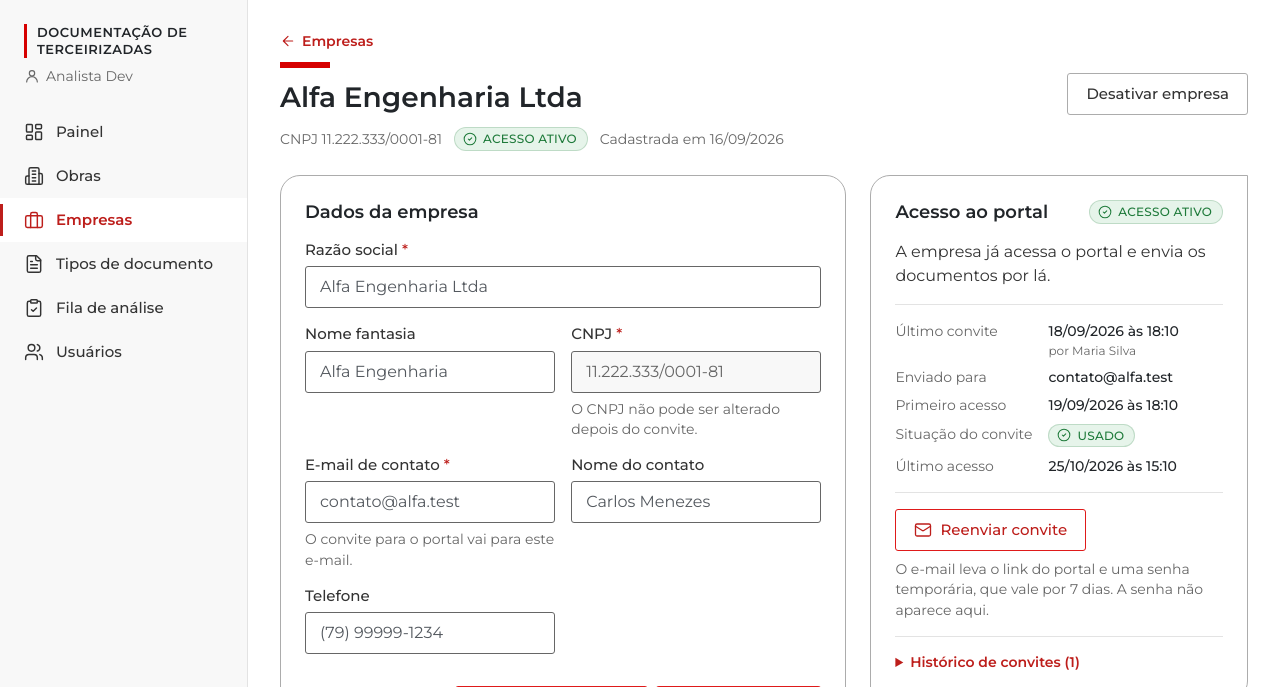
Test: Detalhe da empresa — dados e ativação › cancelar a desativação não altera a empresa
The image size is (1280, 687).
Expected: the heading "Alfa Engenharia Ltda" is shown, x1=280 y1=80 x2=583 y2=114
What coordinates should you click on to do the following:
click the button "Desativar empresa"
I would click on:
 (1158, 94)
Its box is x1=1067 y1=73 x2=1248 y2=115.
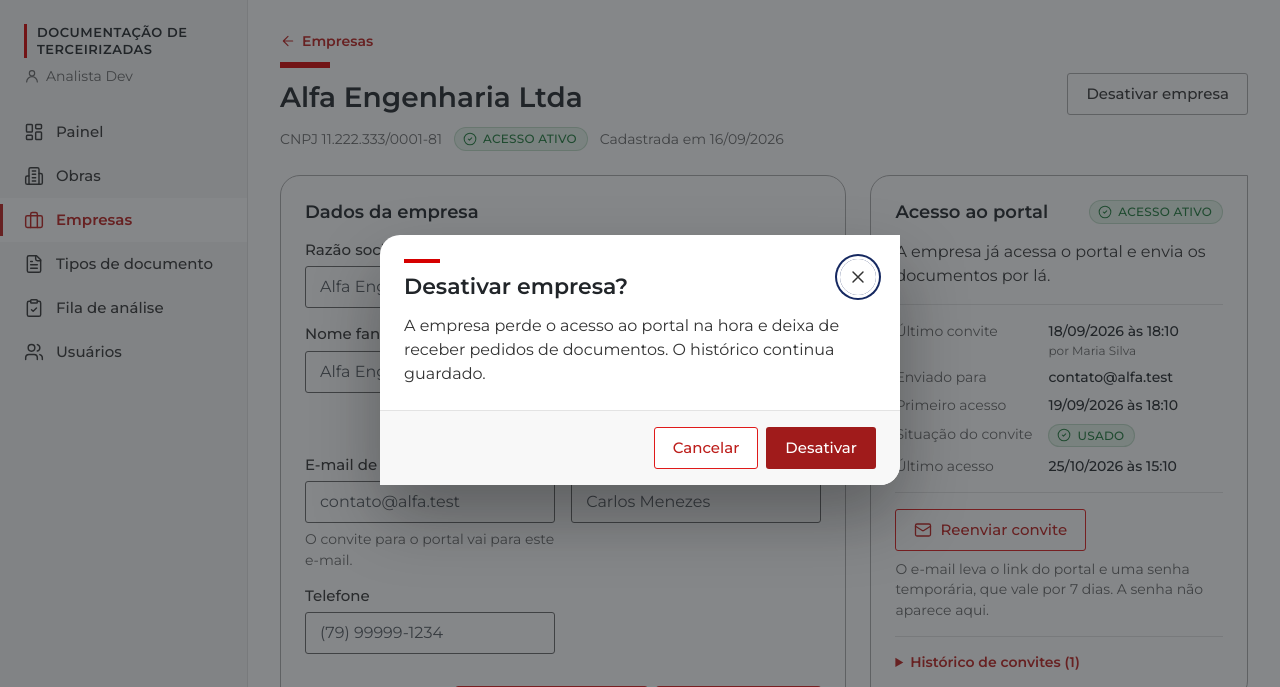
What coordinates should you click on to do the following:
click the button "Cancelar"
I would click on:
 (706, 448)
Its box is x1=654 y1=427 x2=758 y2=469.
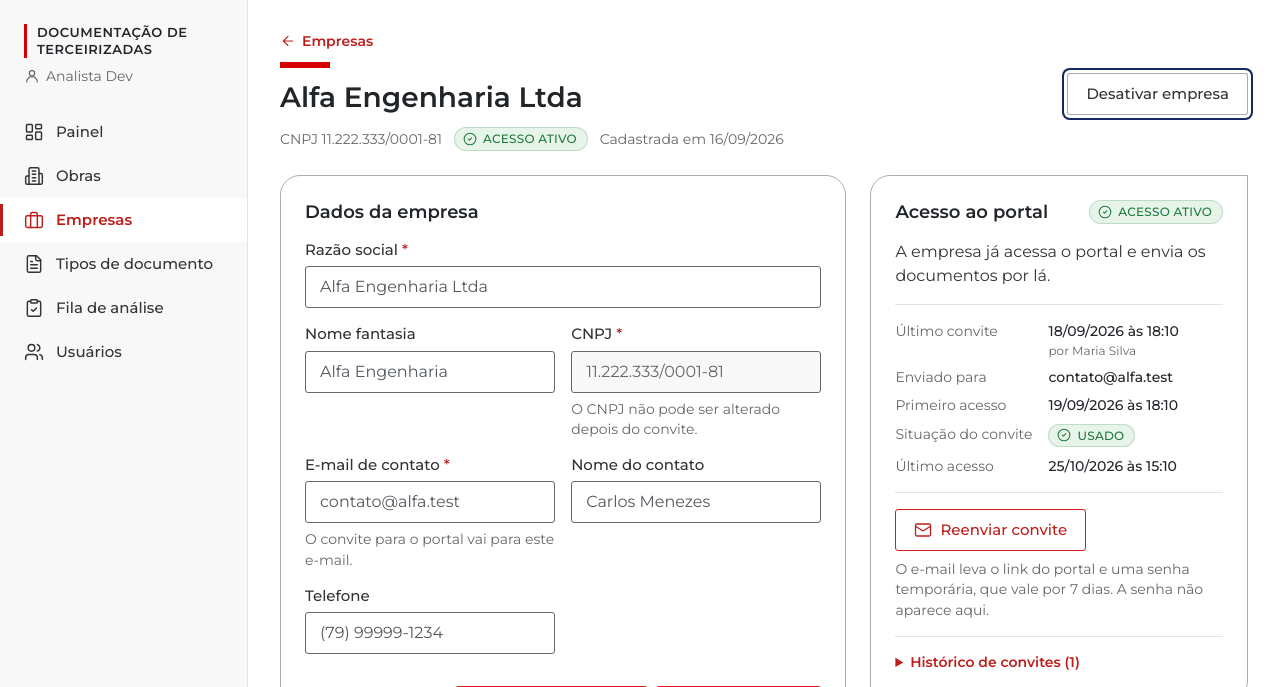
Result: the dialog is gone
